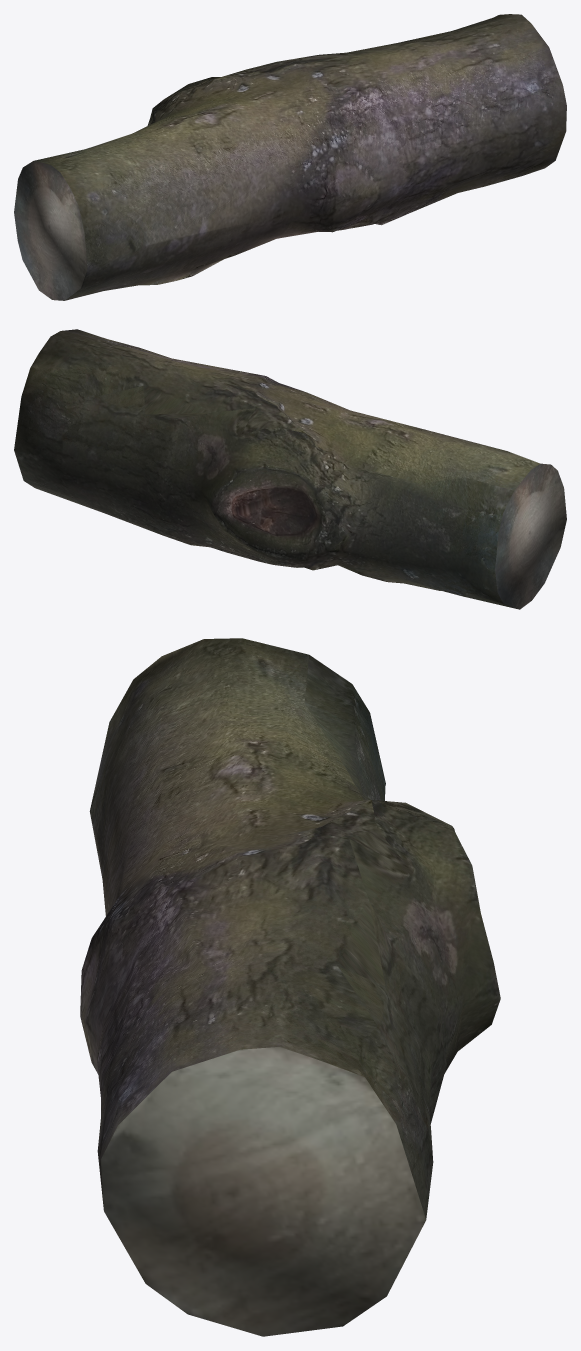
The model's file is log_lowpoly.fbx.
3 renders of one model, top to bottom at view 1: azimuth 30°, elevation 25°; view 2: azimuth 150°, elevation 25°; view 3: azimuth 270°, elevation 25°, orthographic. The views are drawn at different scales.
Parts seen in each view (by area): view 1: Cylinder.002; view 2: Cylinder.002; view 3: Cylinder.002.
Boxes of the visible parts, x1=… form: Cylinder.002: x1=14, y1=14, x2=566, y2=300; Cylinder.002: x1=14, y1=329, x2=566, y2=609; Cylinder.002: x1=80, y1=638, x2=500, y2=1336.
Size of the model in its own units: 680 by 233 by 263.
